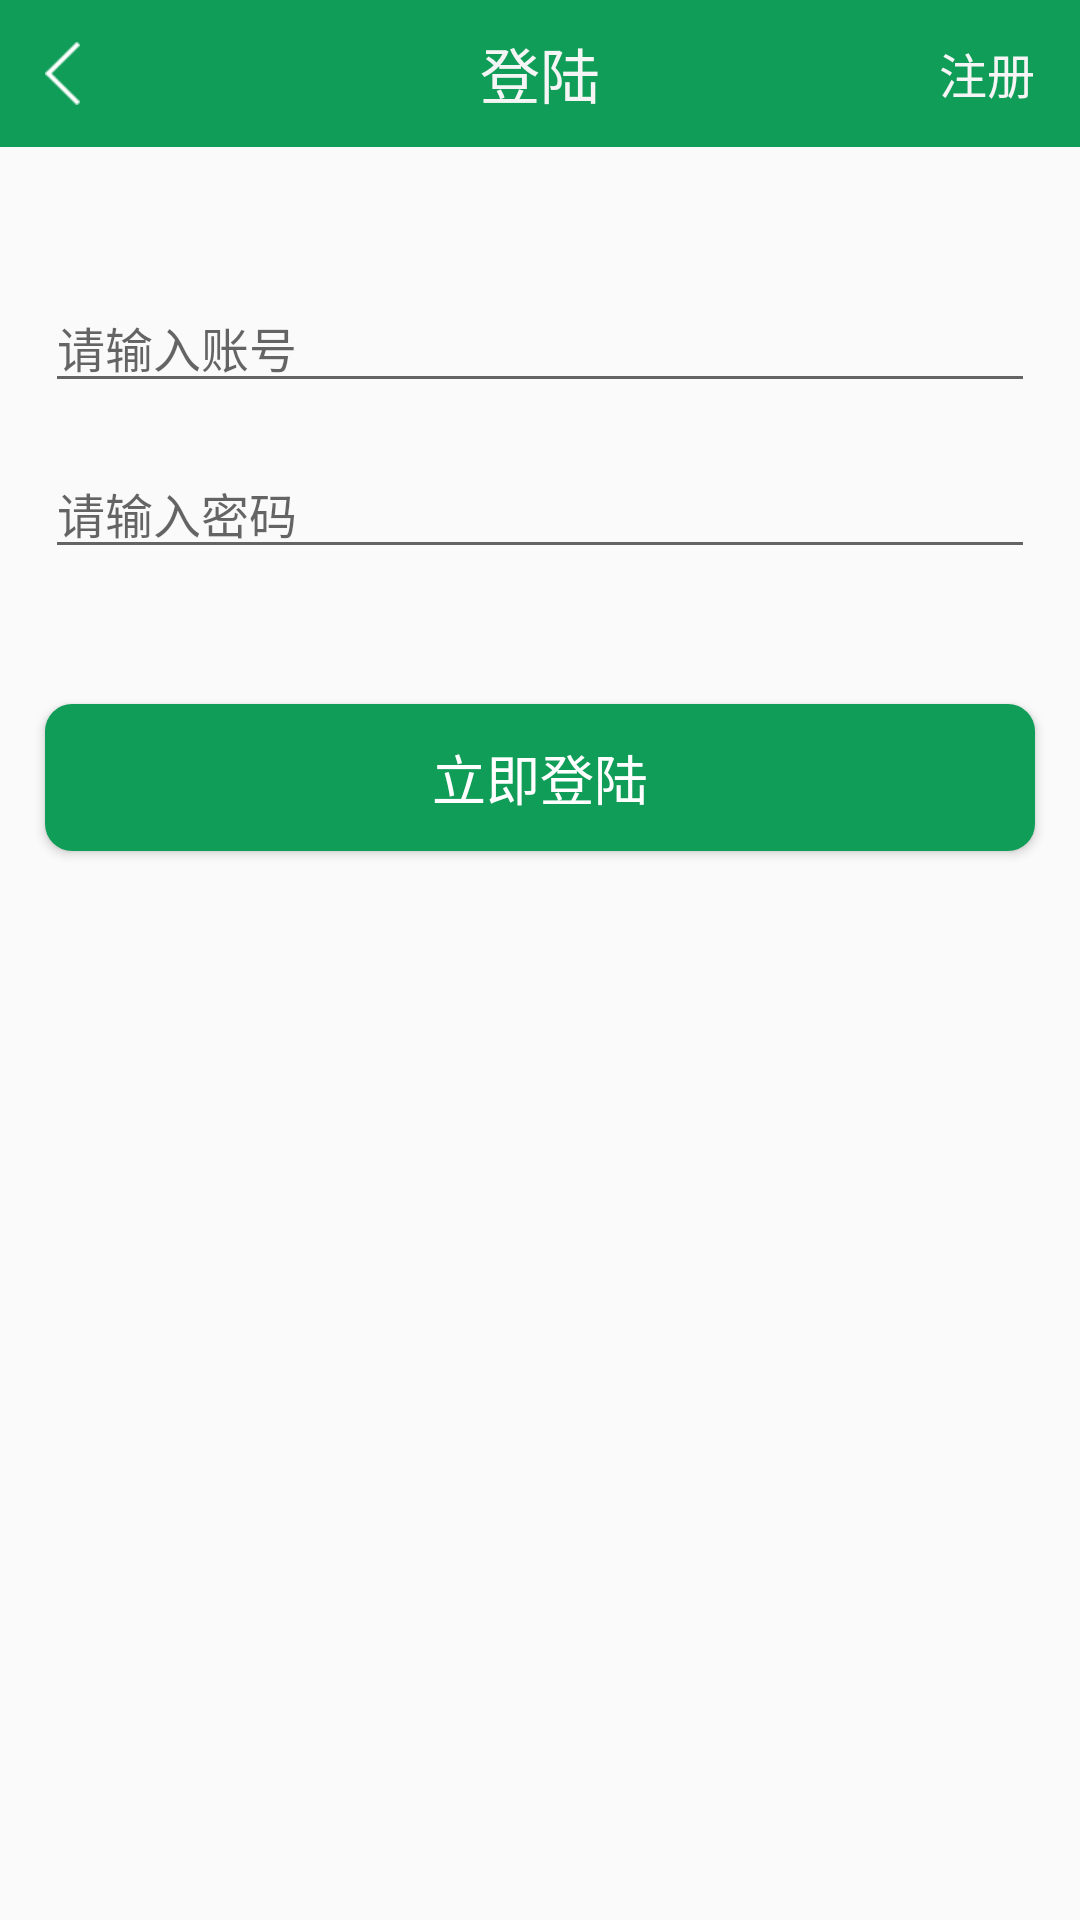

Point at icon controls on the screen. Image size 1080px x 1920px, points as (x,y).
back: (62,73)
